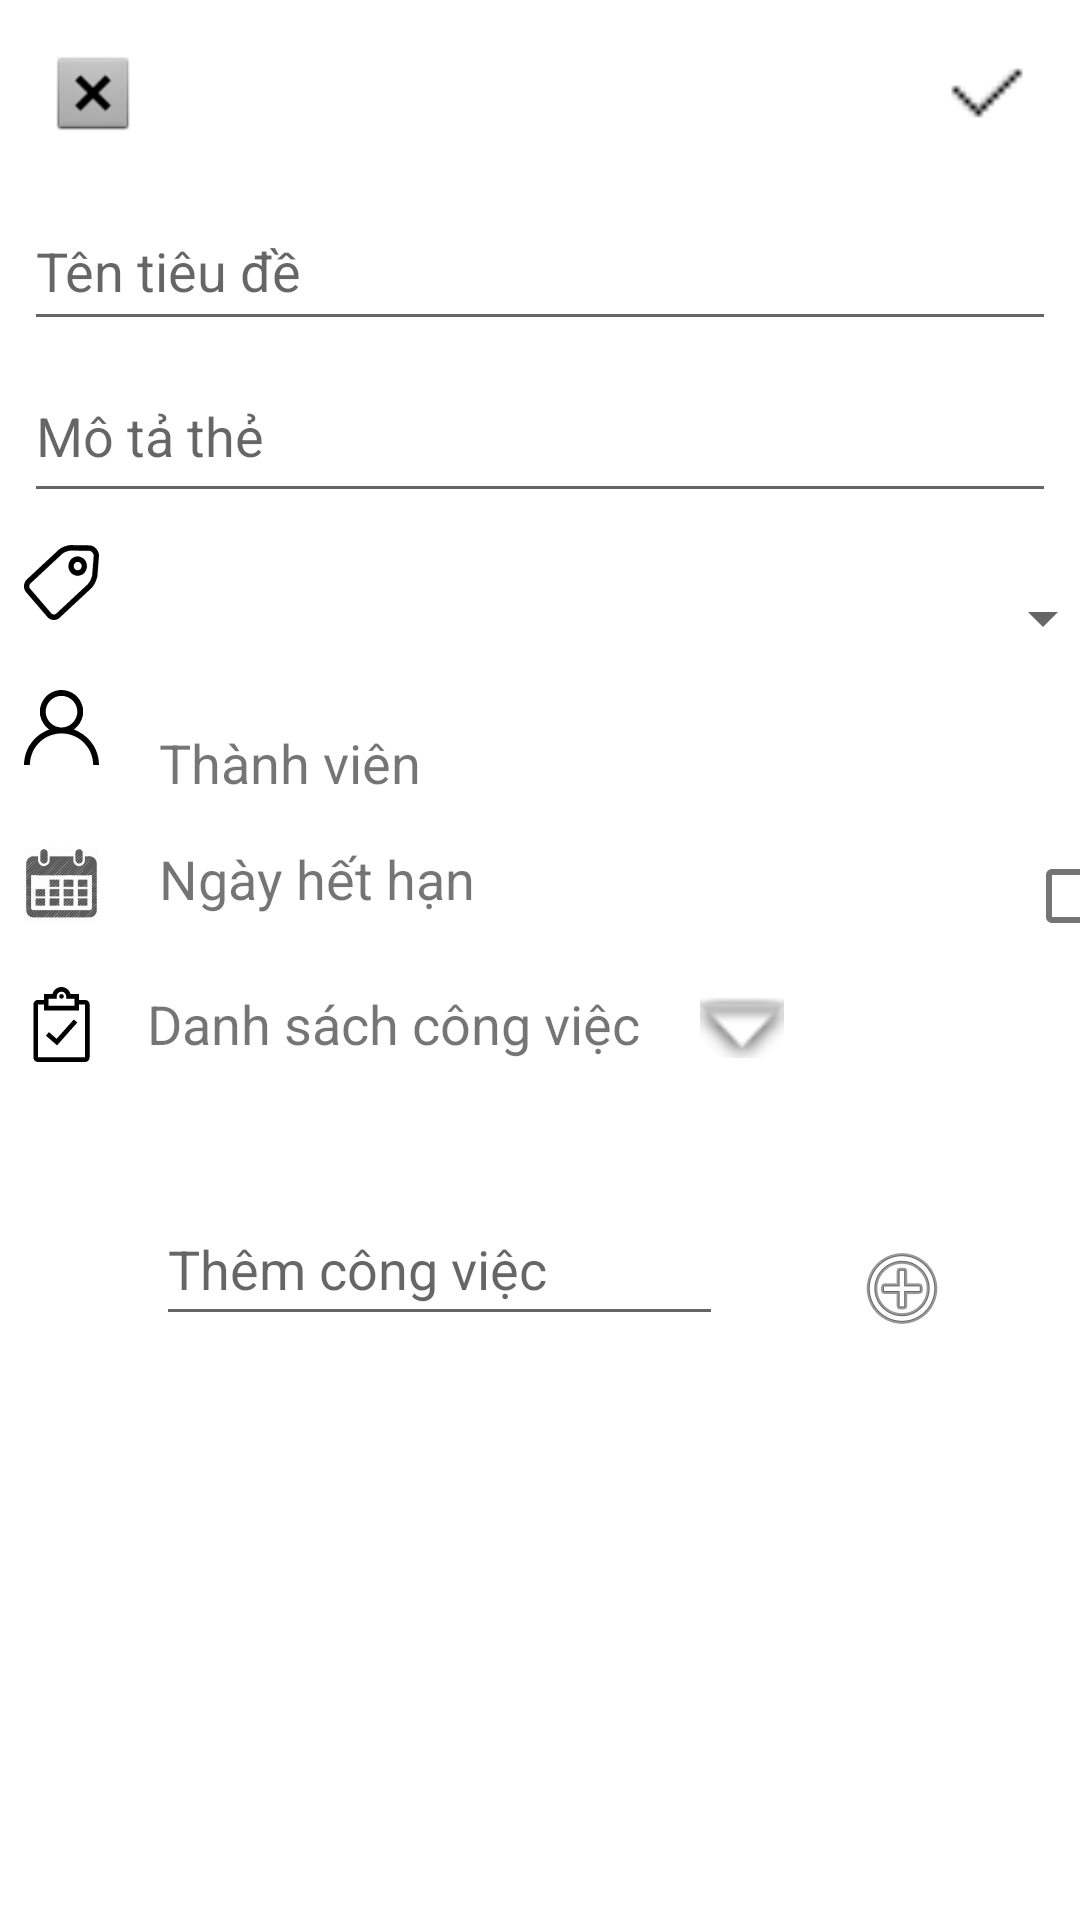

Icons on this 1080 x 1920 Android screen, each with its box as bbox=(x1, y1, x2, y2):
add: bbox=(866, 1253, 938, 1324)
arrow down float: bbox=(700, 999, 784, 1056)
calendar: bbox=(26, 849, 97, 918)
complete: bbox=(951, 68, 1023, 118)
tag: bbox=(24, 545, 99, 620)
task: bbox=(33, 987, 90, 1062)
user: bbox=(24, 690, 99, 765)
